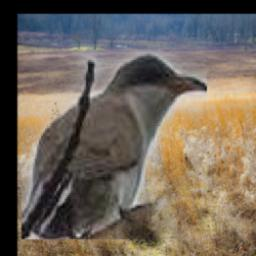Cuckoo: (23, 50, 208, 240)
